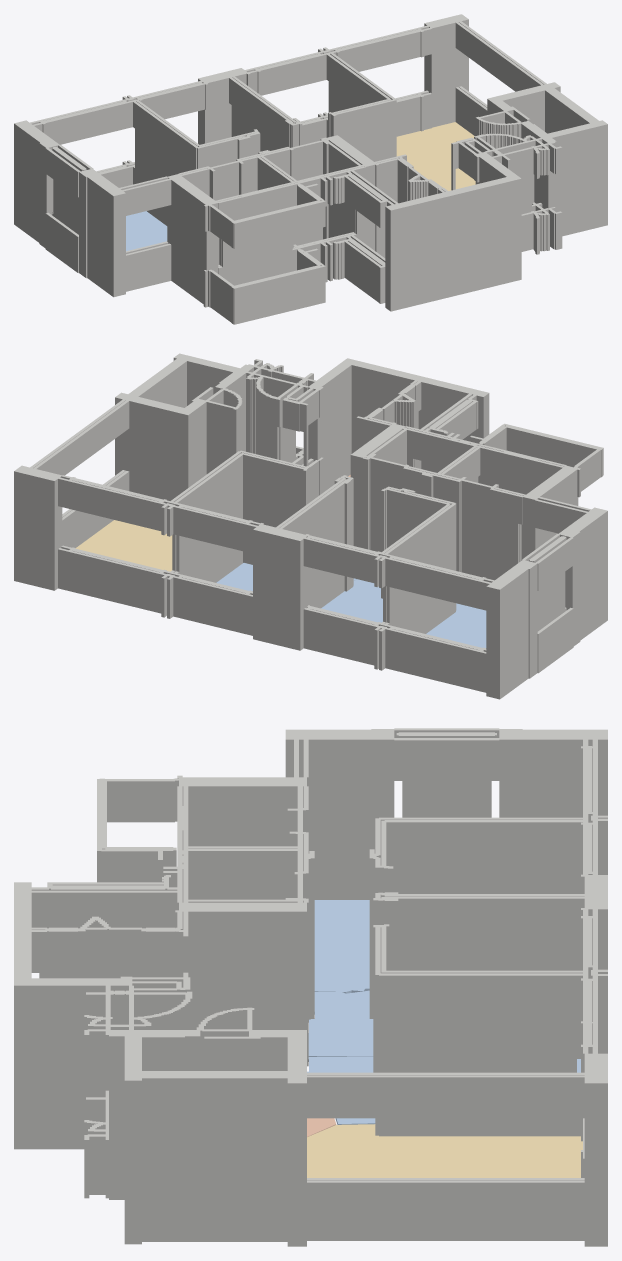
3 renders of one model, top to bottom at view 1: azimuth 30°, elevation 25°; view 2: azimuth 150°, elevation 25°; view 3: azimuth 270°, elevation 25°, orthographic. The views are drawn at different scales.
Visible parts, largest first — view 1: walls, room:living:3, room:bedroom:0; view 2: walls, room:living:3, room:bedroom:0, room:bedroom:1, room:bedroom:2; view 3: walls, room:living:3, room:bedroom:0, room:bedroom:1, room:bedroom:2.
Boxes of the visible parts, x1,y1,x2,y2 form: walls: [14, 14, 607, 324]; room:living:3: [396, 122, 475, 190]; room:bedroom:0: [126, 211, 167, 251]; walls: [14, 353, 607, 699]; room:living:3: [75, 520, 172, 571]; room:bedroom:0: [426, 603, 486, 647]; room:bedroom:1: [321, 579, 382, 622]; room:bedroom:2: [216, 563, 356, 591]; walls: [14, 728, 607, 1246]; room:living:3: [307, 1124, 582, 1177]; room:bedroom:0: [314, 900, 369, 993]; room:bedroom:1: [308, 990, 373, 1056]; room:bedroom:2: [307, 1057, 580, 1124].
Bounding box in the file's own units: 13.03 × 2.8 × 9.22.
